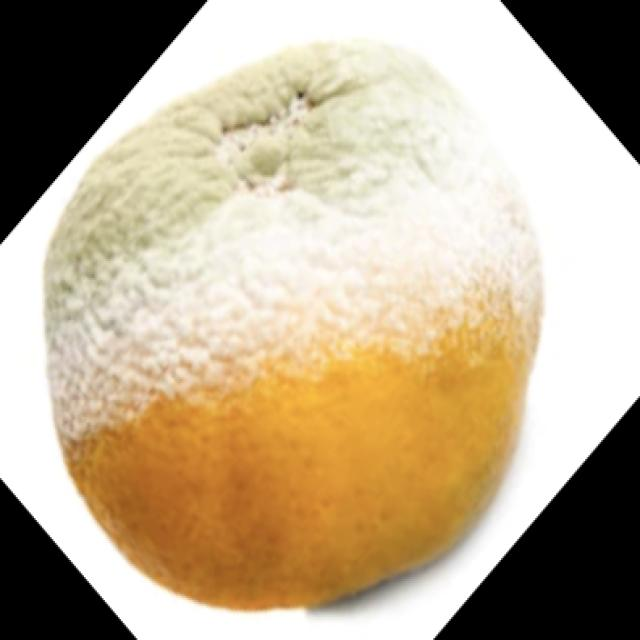sangat_busuk: (43, 38, 545, 607)
